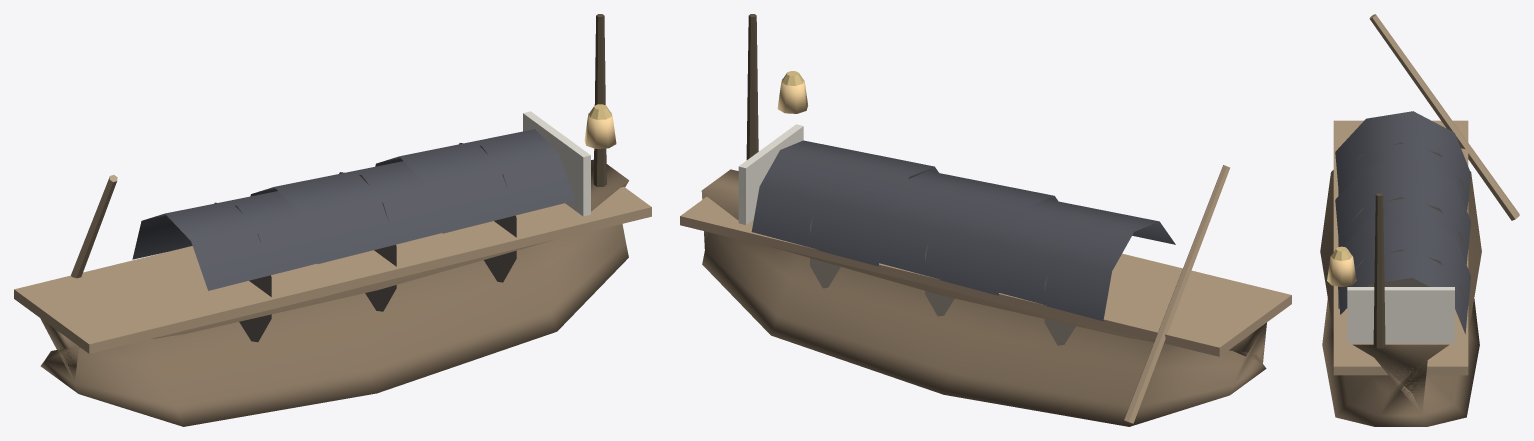
Rendered from wupengboat.glb.
3 views of the same model, side by side, from view 1: azimuth 30°, elevation 25°; view 2: azimuth 150°, elevation 25°; view 3: azimuth 270°, elevation 25° (orthographic). The views are drawn at different scales.
Parts seen in each view (by area): view 1: body, lantern; view 2: body, lantern; view 3: body, lantern.
Boxes of the visible parts, x1,y1,x2,y2 form: body: [14, 14, 651, 426]; lantern: [584, 104, 616, 148]; body: [680, 14, 1291, 426]; lantern: [777, 71, 808, 113]; body: [1320, 14, 1519, 426]; lantern: [1327, 246, 1356, 286].
Size of the model in its own units: 2.16 by 1.07 by 0.7403.
